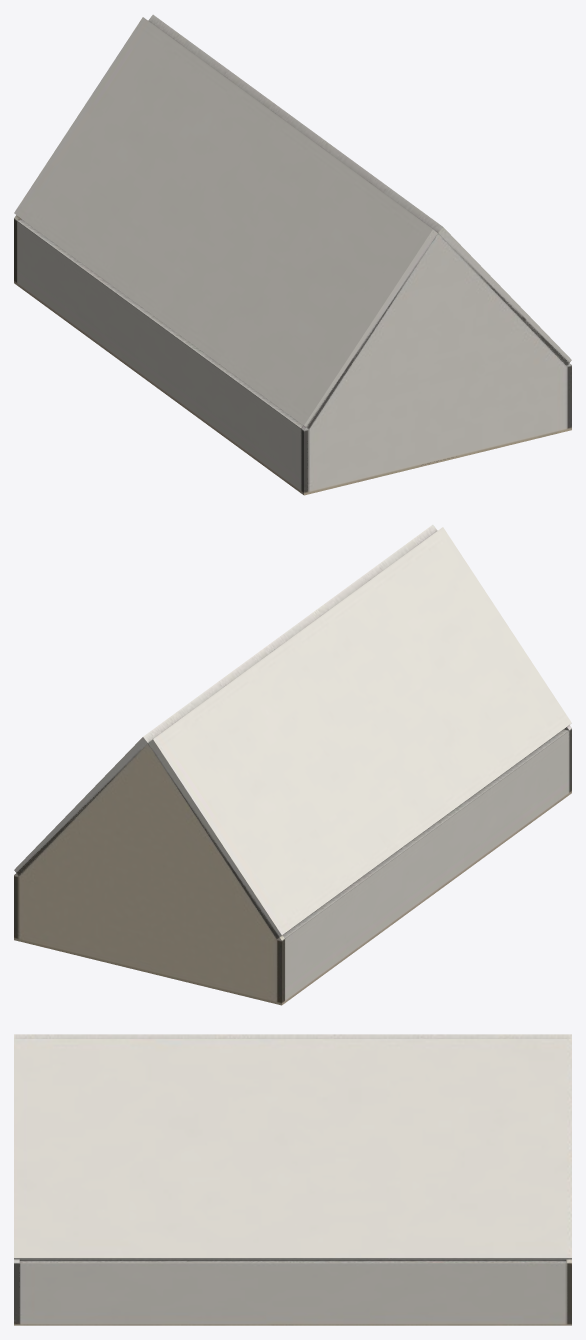
Rendered from kosciol_in.glb.
The picture shows the model from 3 angles, top to bottom: view 1: azimuth 30°, elevation 25°; view 2: azimuth 150°, elevation 25°; view 3: azimuth 270°, elevation 25°; orthographic projection. The views are drawn at different scales.
Visible parts, largest first — view 1: kosciol_in; view 2: kosciol_in; view 3: kosciol_in.
Boxes of the visible parts, <box> form: kosciol_in: <box>14,14,571,495</box>; kosciol_in: <box>14,524,571,1005</box>; kosciol_in: <box>14,1034,571,1325</box>.
Bounding box in the file's own units: 16 × 13.4 × 30.
Materials: 1 (1 with a texture image).
